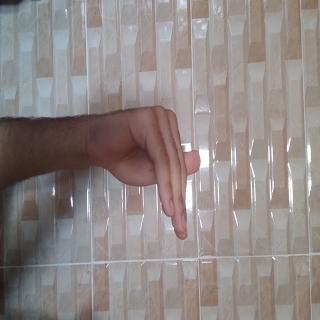KHAA: (75, 153, 180, 320)
